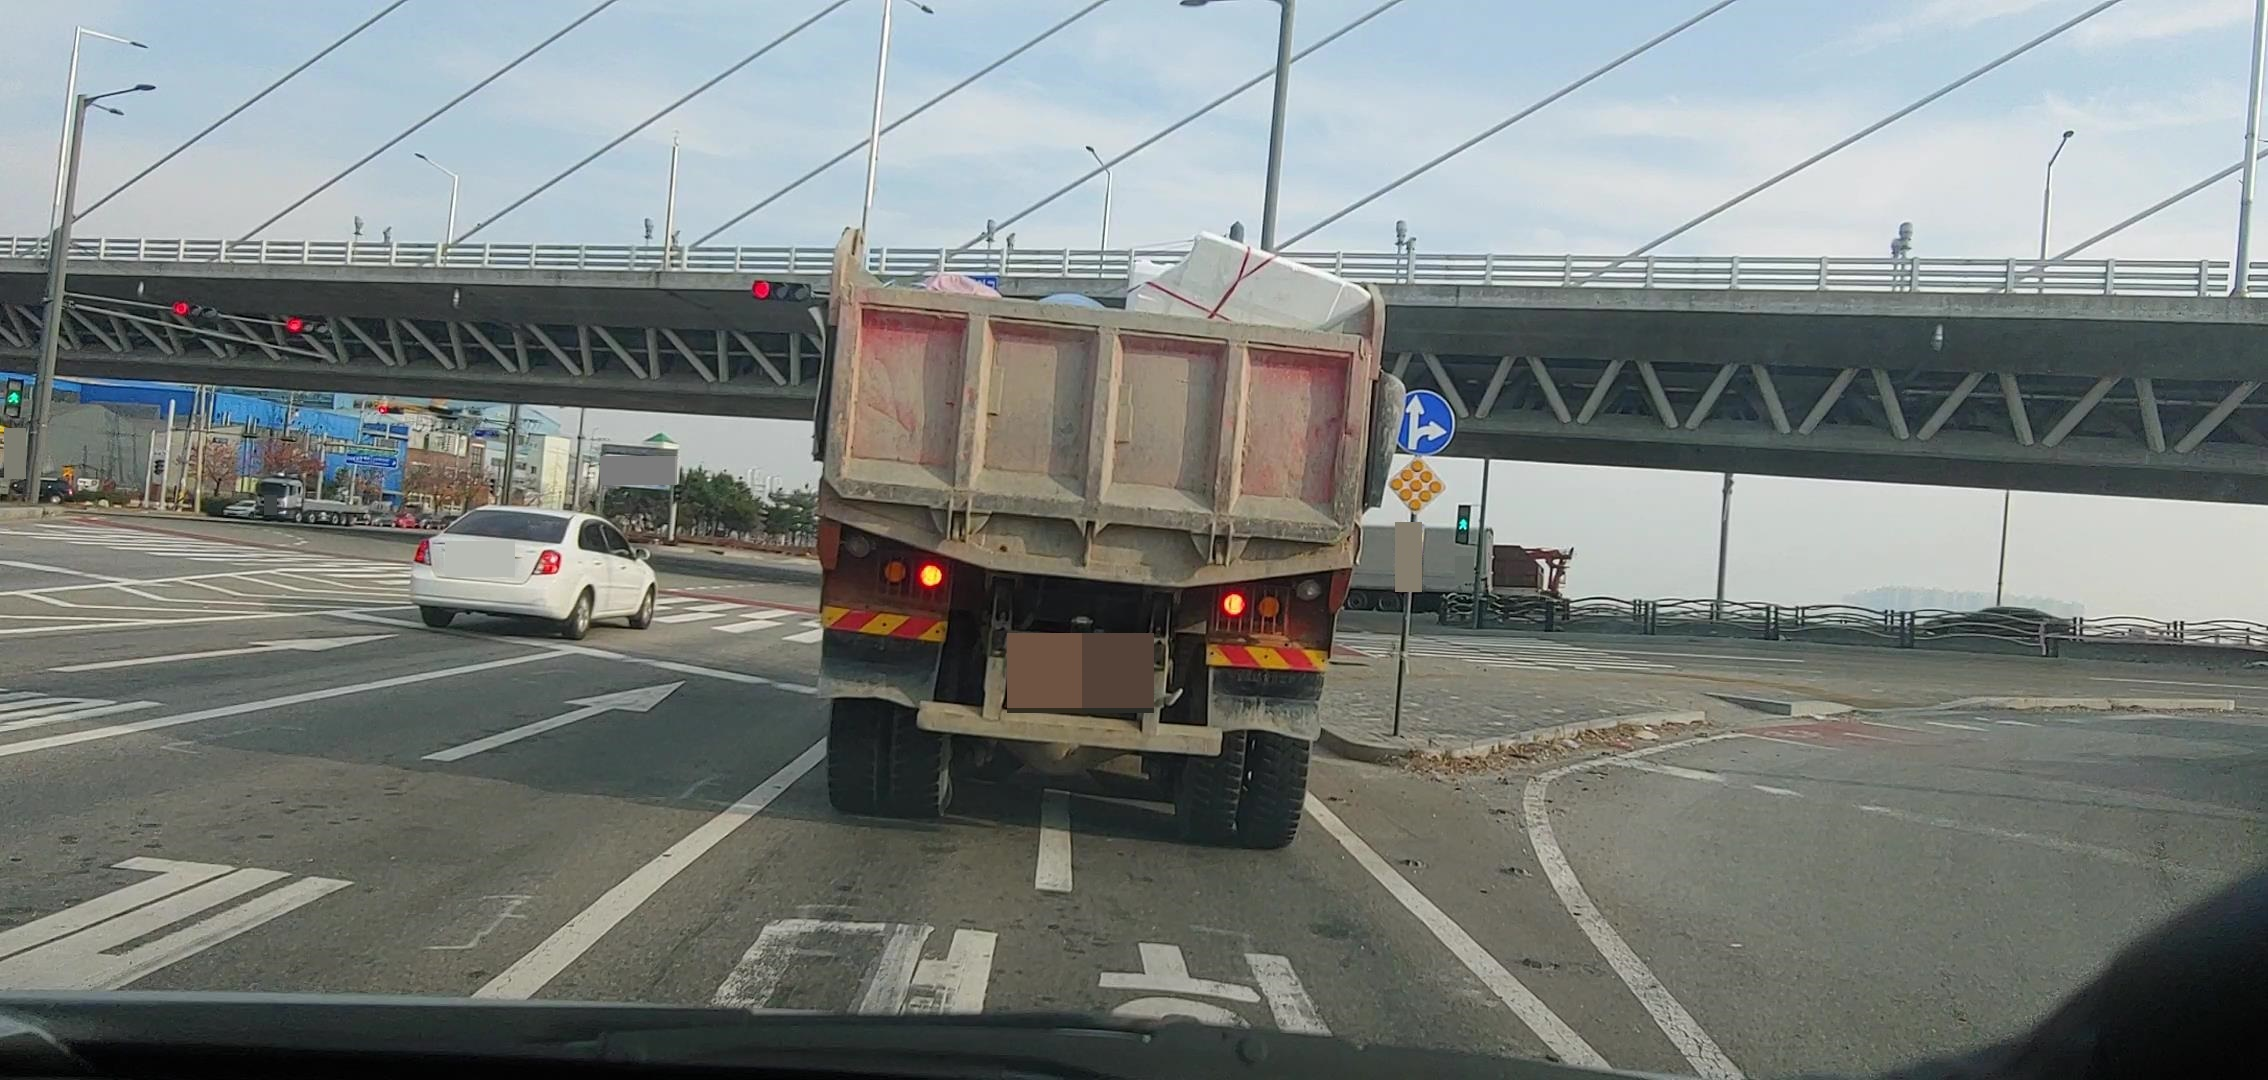불법차량: (808, 224, 1410, 854)
